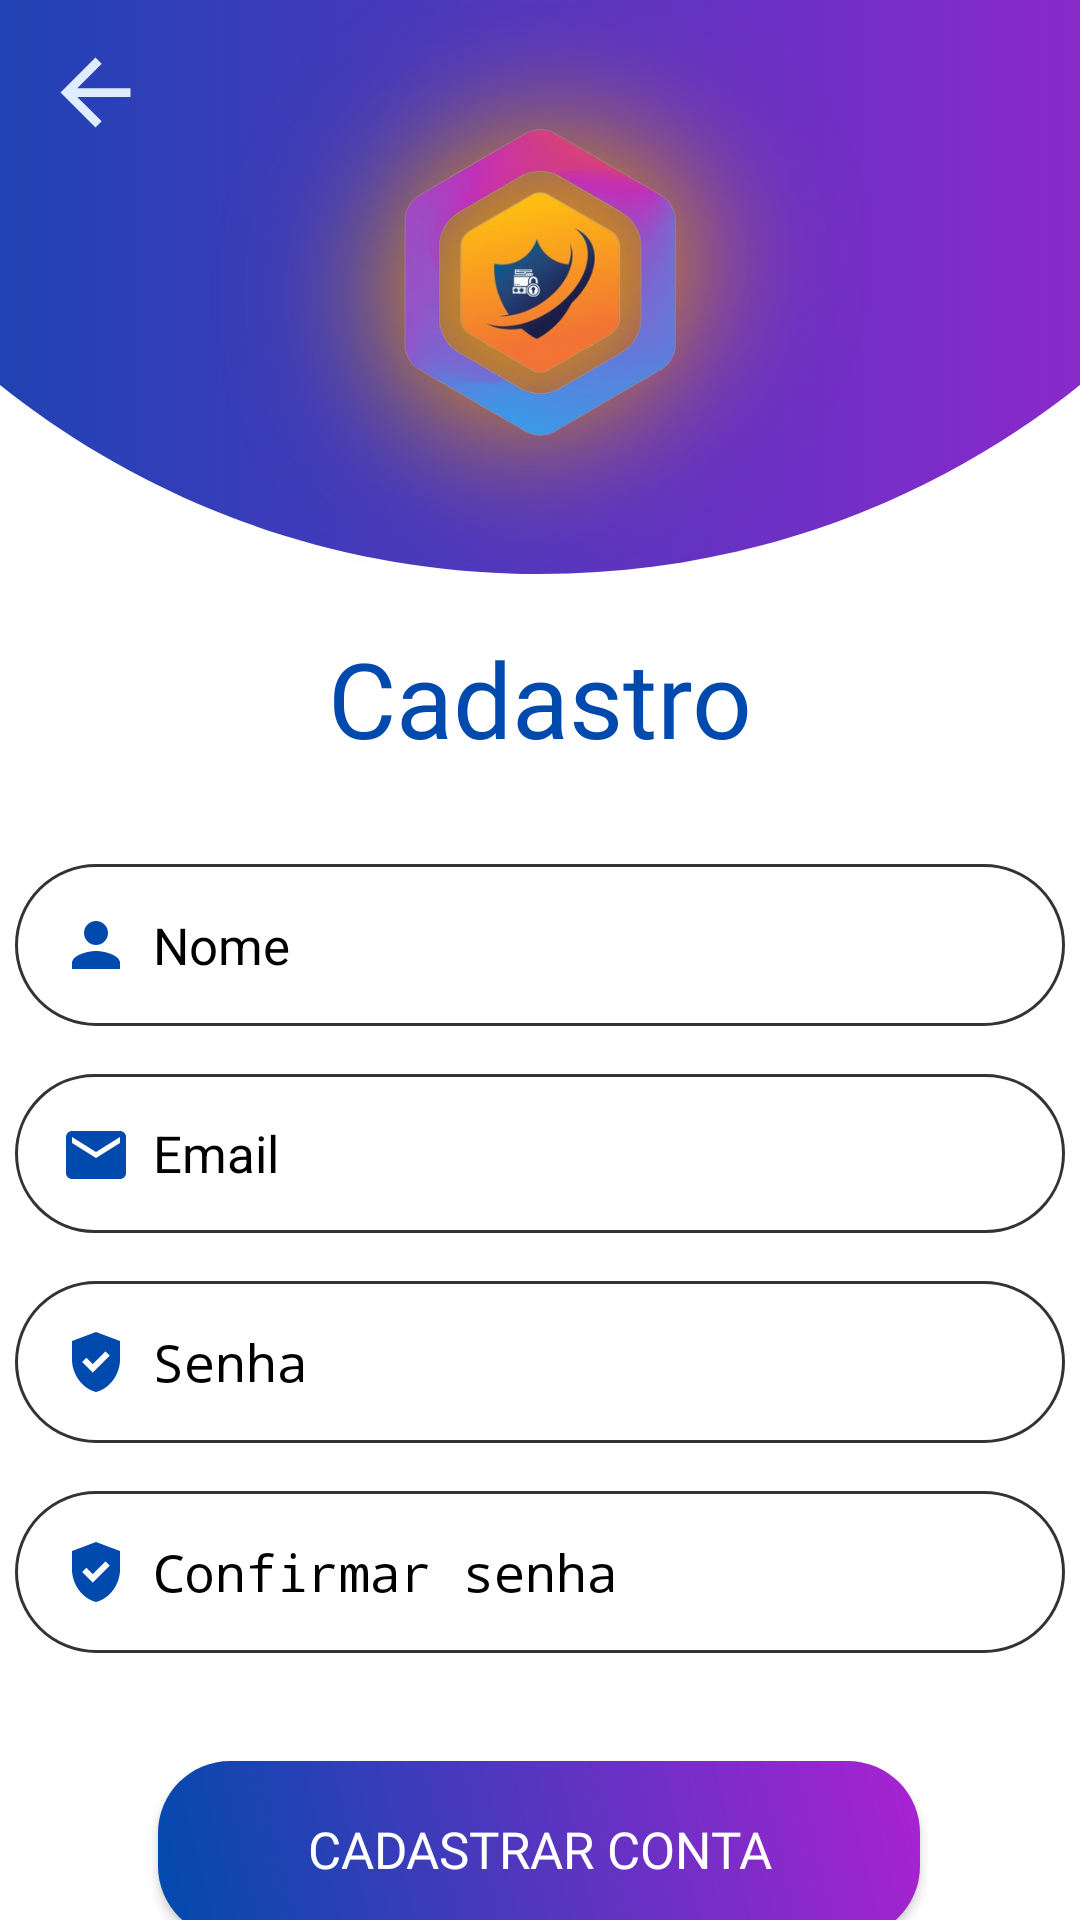

Icons on this 1080 × 1920 Android screen, each with its box as (x1, y1, x2, y2):
arrowback: (60, 57, 131, 128)
